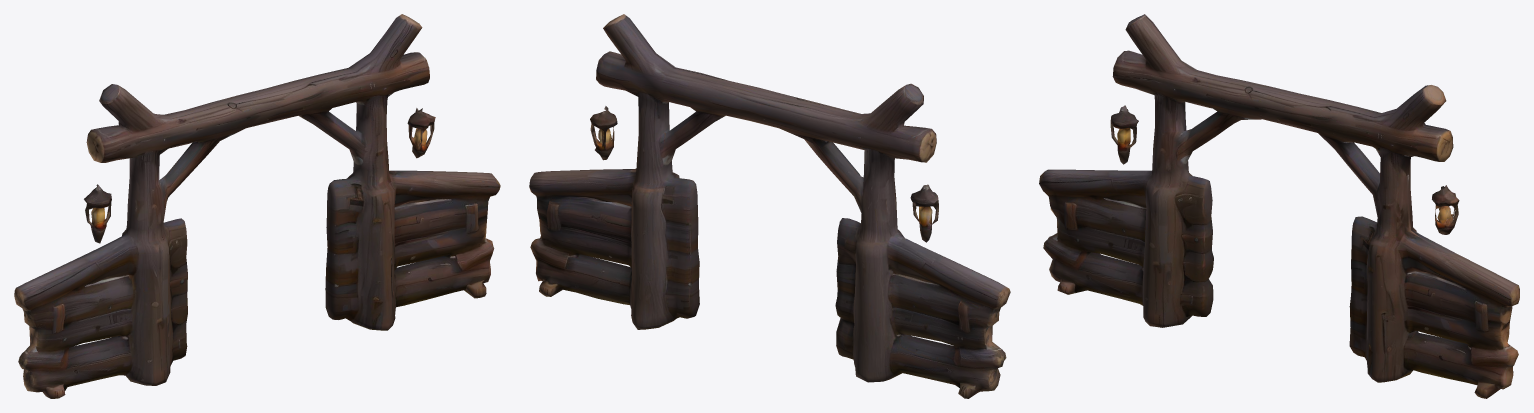
Rendered from puerta_fuerte.glb.
3 views of the same model, side by side, from view 1: azimuth 30°, elevation 25°; view 2: azimuth 150°, elevation 25°; view 3: azimuth 330°, elevation 25° (orthographic).
Parts seen in each view (by area): view 1: tripo_node_cc5126c7; view 2: tripo_node_cc5126c7; view 3: tripo_node_cc5126c7.
Part boxes in pixels (<box>): tripo_node_cc5126c7: <box>14,14,500,398</box>; tripo_node_cc5126c7: <box>529,14,1010,398</box>; tripo_node_cc5126c7: <box>1039,14,1519,398</box>.
Size of the model in its own units: 0.9967 by 0.5871 by 0.1303.
1 material, 1 textured.
